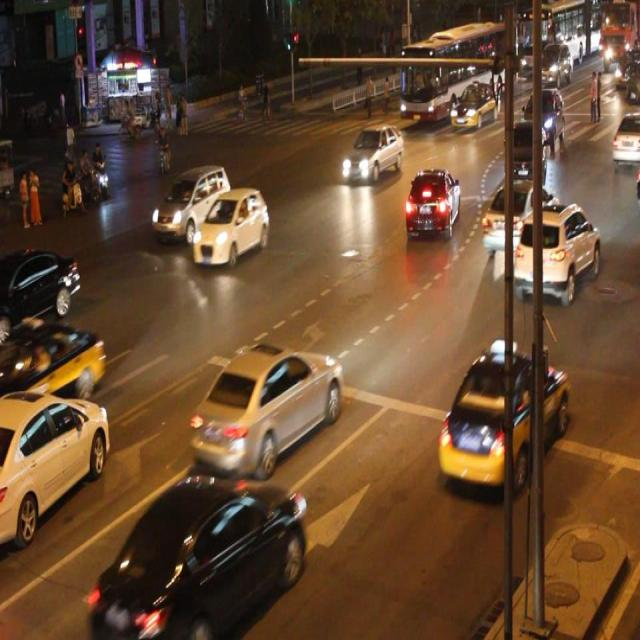car: (89, 473, 304, 640), (191, 342, 343, 476), (439, 349, 567, 482), (1, 389, 110, 540), (1, 318, 105, 400), (512, 198, 598, 297), (1, 246, 79, 322), (152, 165, 231, 239), (193, 186, 269, 262), (483, 178, 555, 249), (403, 167, 458, 241), (342, 125, 404, 181), (504, 120, 546, 191), (610, 114, 640, 159)
